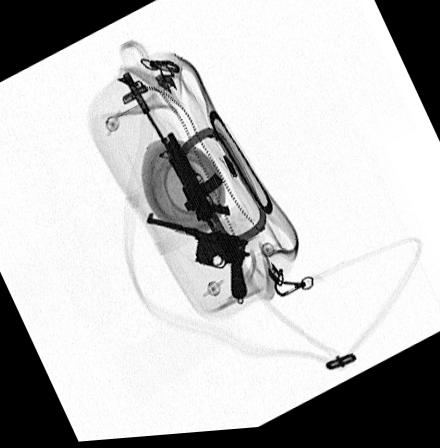Gun: (121, 72, 236, 260), (147, 218, 252, 301)
